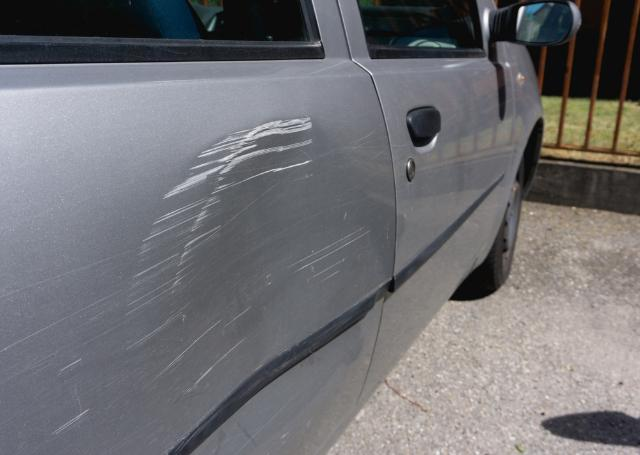dent: (177, 121, 386, 432)
scratch: (0, 124, 275, 449)
